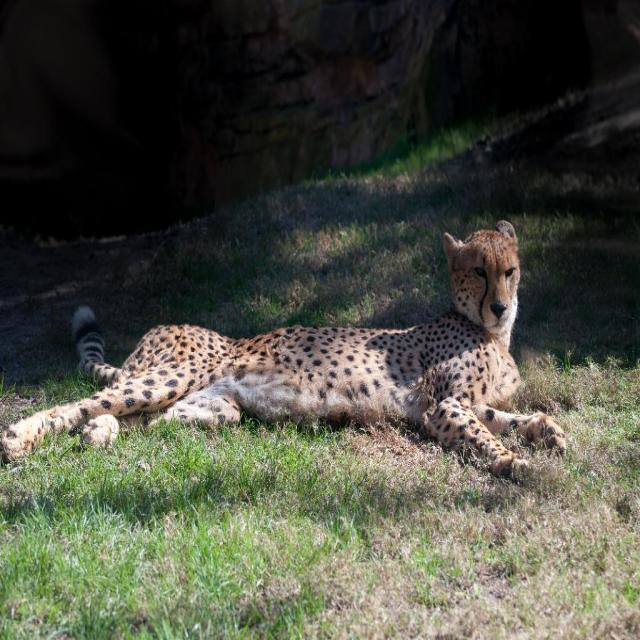Cheetah: (0, 216, 566, 484)
